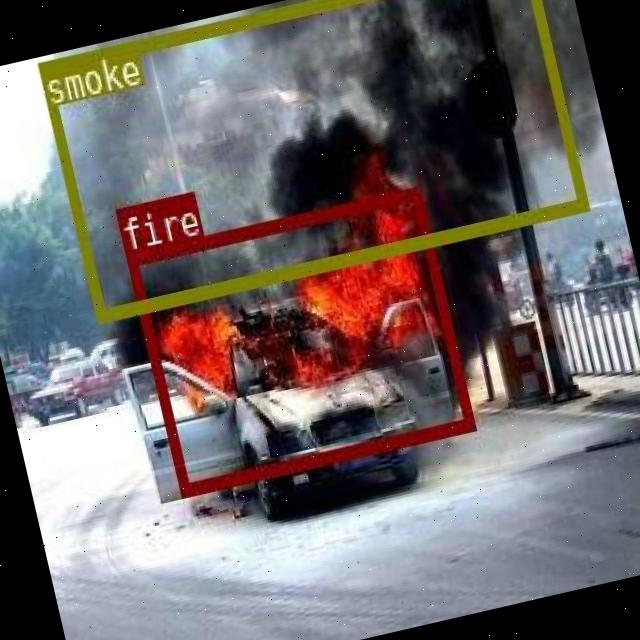fire: (124, 187, 473, 494)
smoke: (36, 0, 587, 320)
